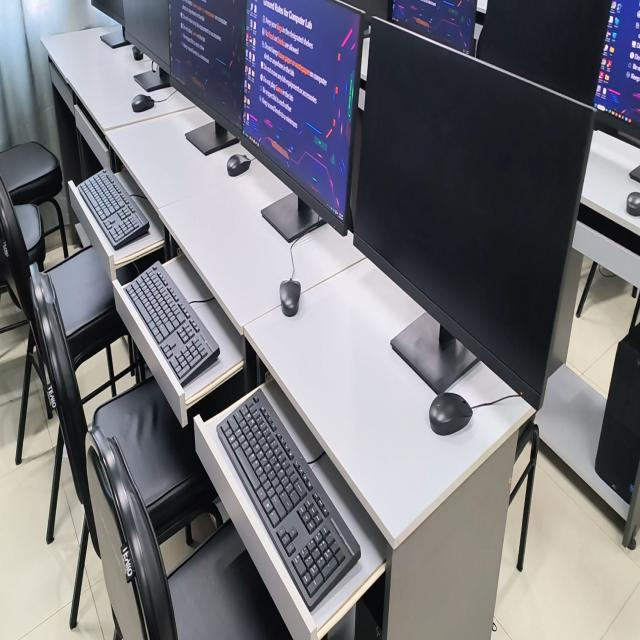Chair: (87, 424, 291, 639), (21, 263, 100, 628), (91, 377, 222, 547), (46, 245, 140, 403), (0, 141, 68, 258), (14, 204, 44, 265)
Cpu: (595, 324, 640, 503)
Keyboard: (219, 394, 359, 609), (126, 263, 220, 388), (78, 170, 149, 250)
Monitor: (354, 19, 594, 409), (243, 0, 364, 230), (478, 0, 611, 105), (168, 0, 247, 135), (594, 0, 640, 126), (391, 0, 477, 53), (123, 0, 170, 71)
Mouse: (429, 393, 473, 436), (280, 279, 301, 316), (227, 154, 251, 176), (132, 94, 154, 112)
